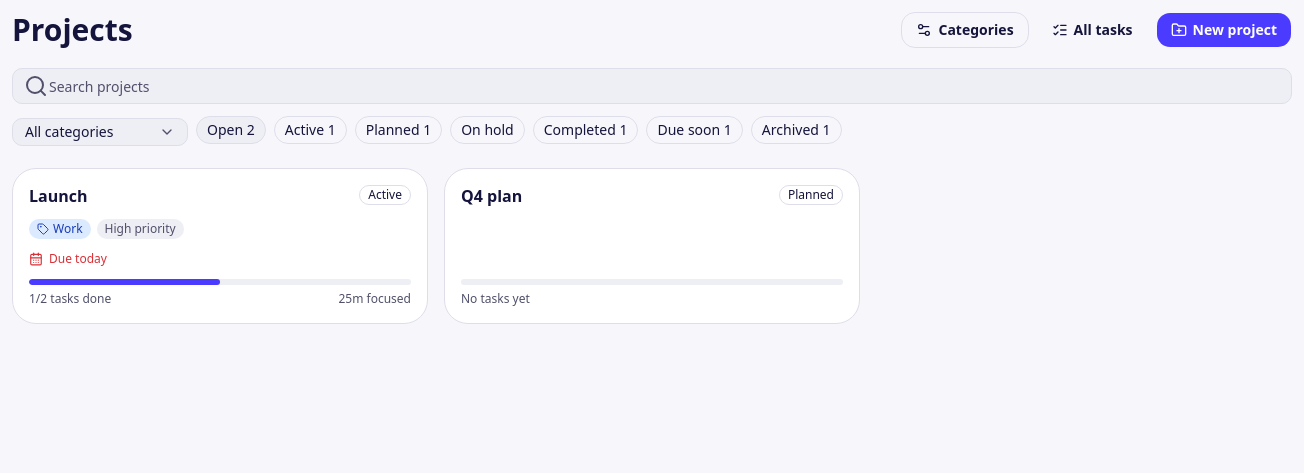
Scenario: ProjectsPage › filters by status, due date, and archive, and searches by name
The width and height of the screenshot is (1304, 473).
Step 1. Click the button "Planned 1" → {"x": 398, "y": 130}, box 355,116 -> 442,144
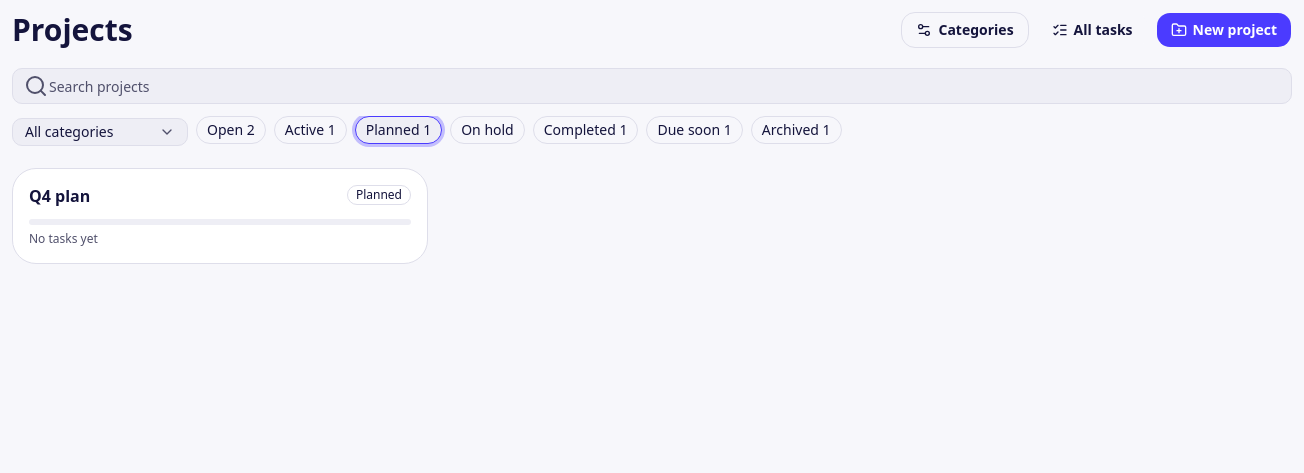
Expected: the list named "Planned projects" shows "Q4 plan", 12,168 -> 428,264
Step 2. Click the button "Due soon 1" → {"x": 695, "y": 130}, box 646,116 -> 743,144
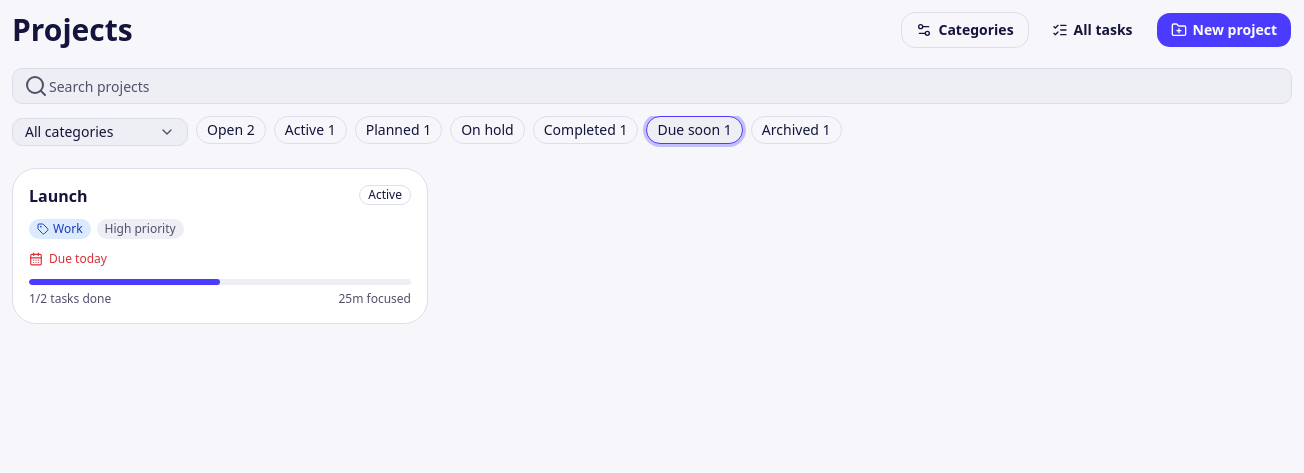
Now the list named "Due soon projects" shows "Launch", box 12,168 -> 428,324
Step 3. Click the button "Archived 1" → {"x": 796, "y": 130}, box 751,116 -> 842,144
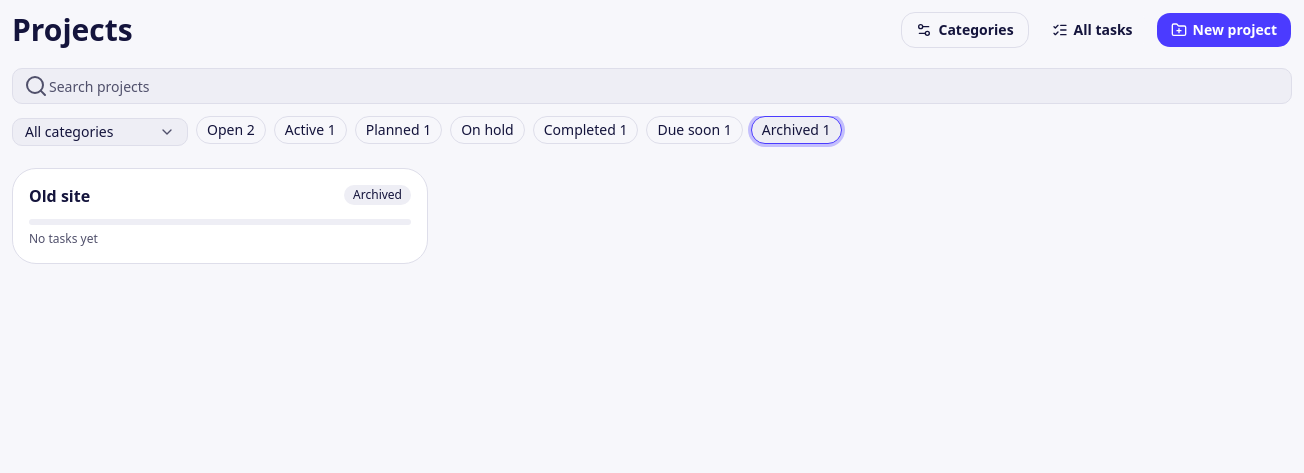
Now the list named "Archived projects" shows "Old site", box 12,168 -> 428,264
Step 4. Click the button "Completed 1" → {"x": 586, "y": 130}, box 533,116 -> 638,144
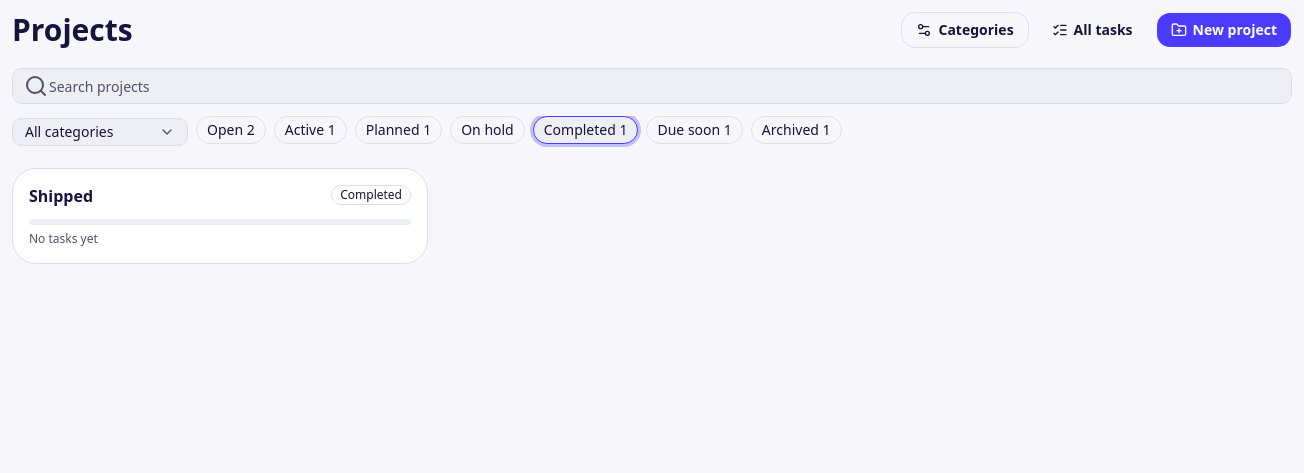
Now the list named "Completed projects" shows "Shipped", box 12,168 -> 428,264
Step 5. Click the button "Open 2" → {"x": 231, "y": 130}, box 196,116 -> 266,144
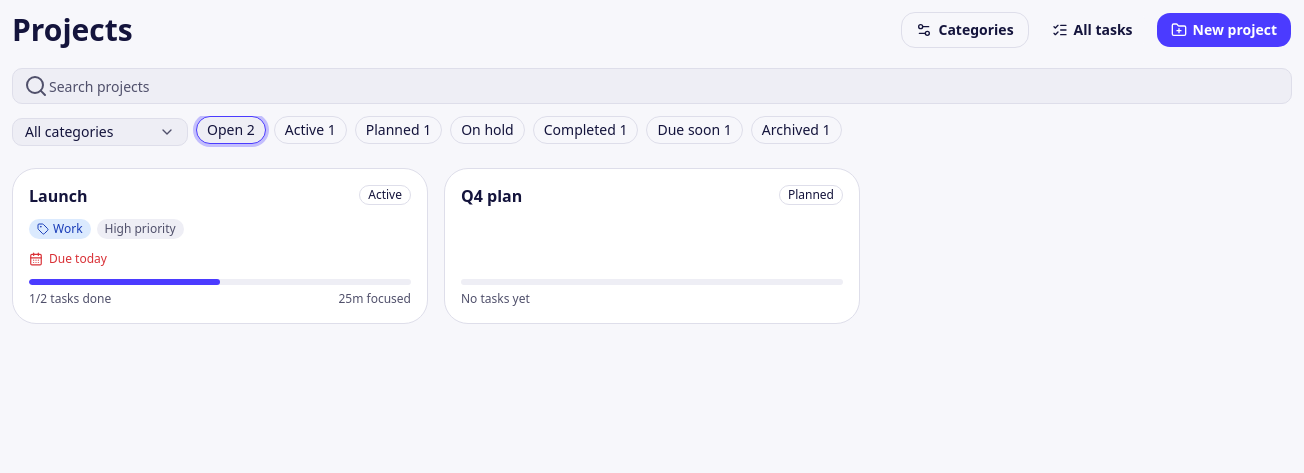
Step 6. Type "missing" into the search field labelled "Search projects" → {"x": 652, "y": 86}, box 12,68 -> 1292,104
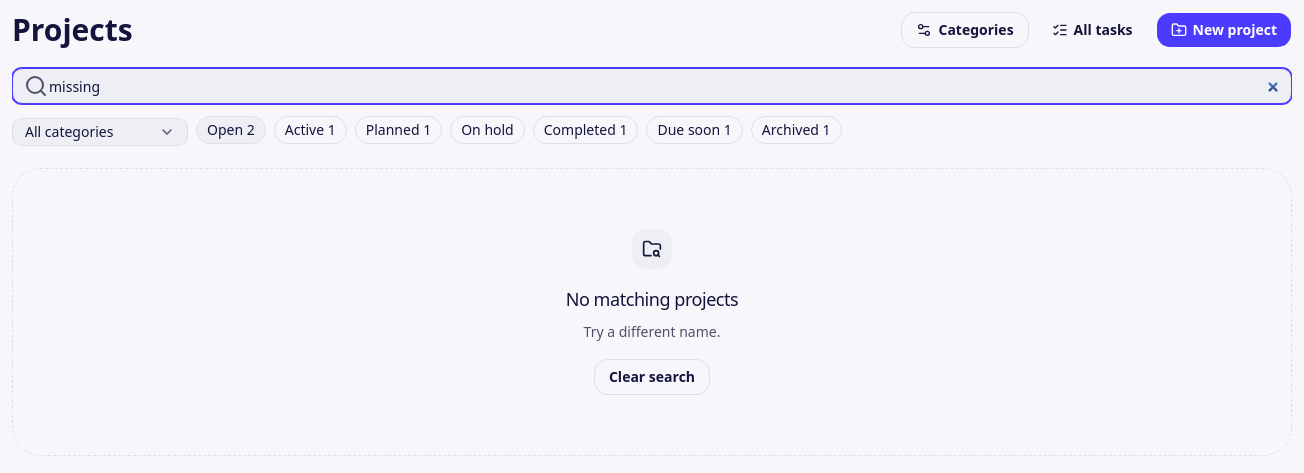
Now the text "No matching projects" is shown, box 566,285 -> 738,313
